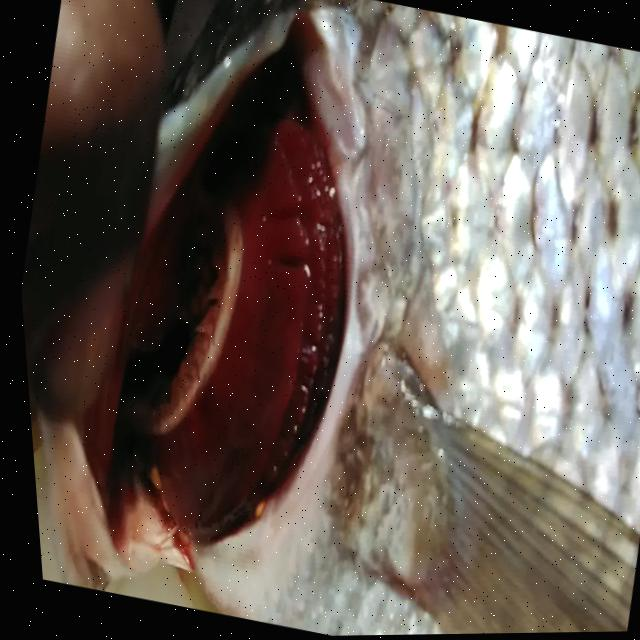Fresh: (77, 0, 435, 613)
